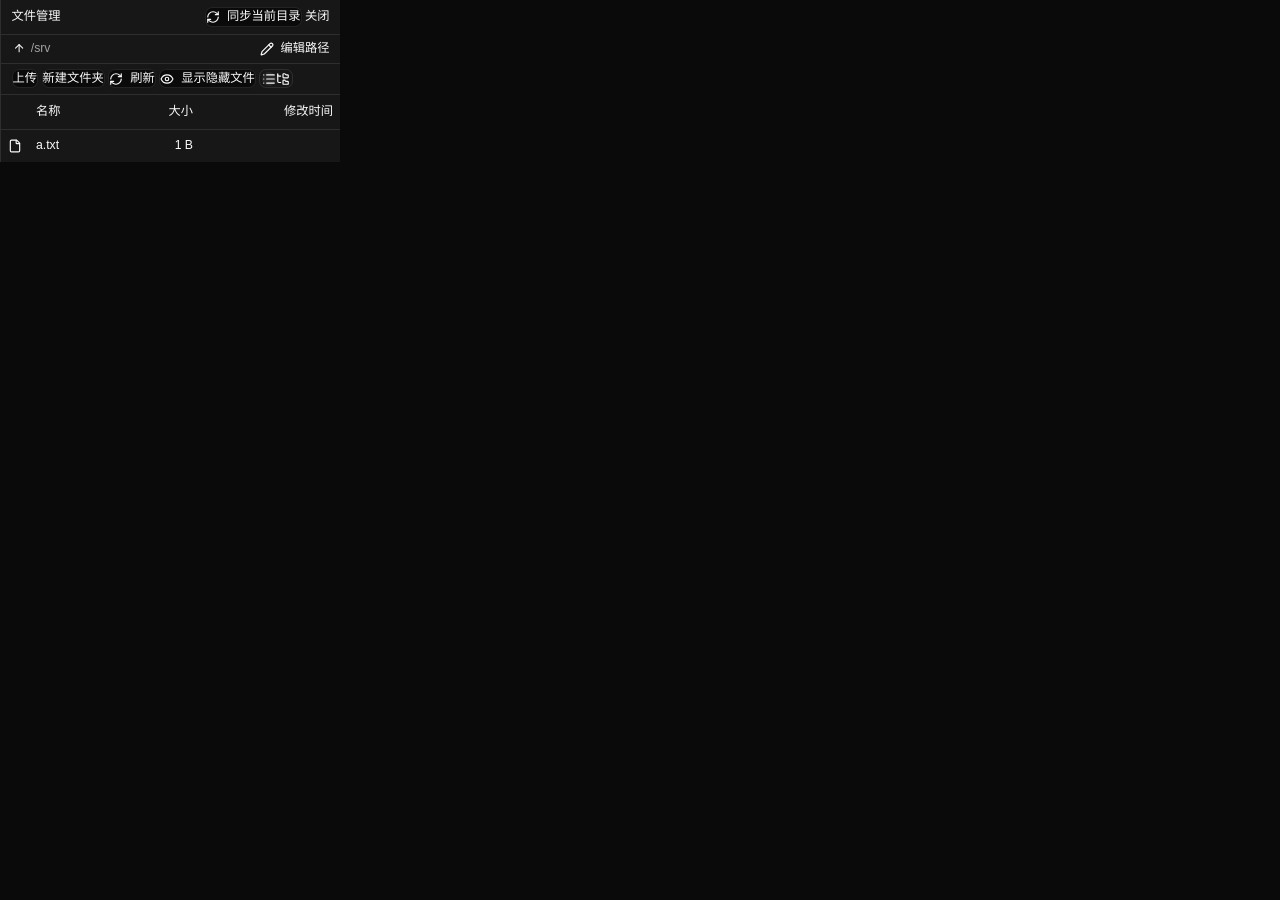
Test case: FilePanel SFTP views › surfaces create-file failures inline without toast
The image size is (1280, 900).
Right-click the button "a.txt": (48, 146) [36, 137, 59, 154]
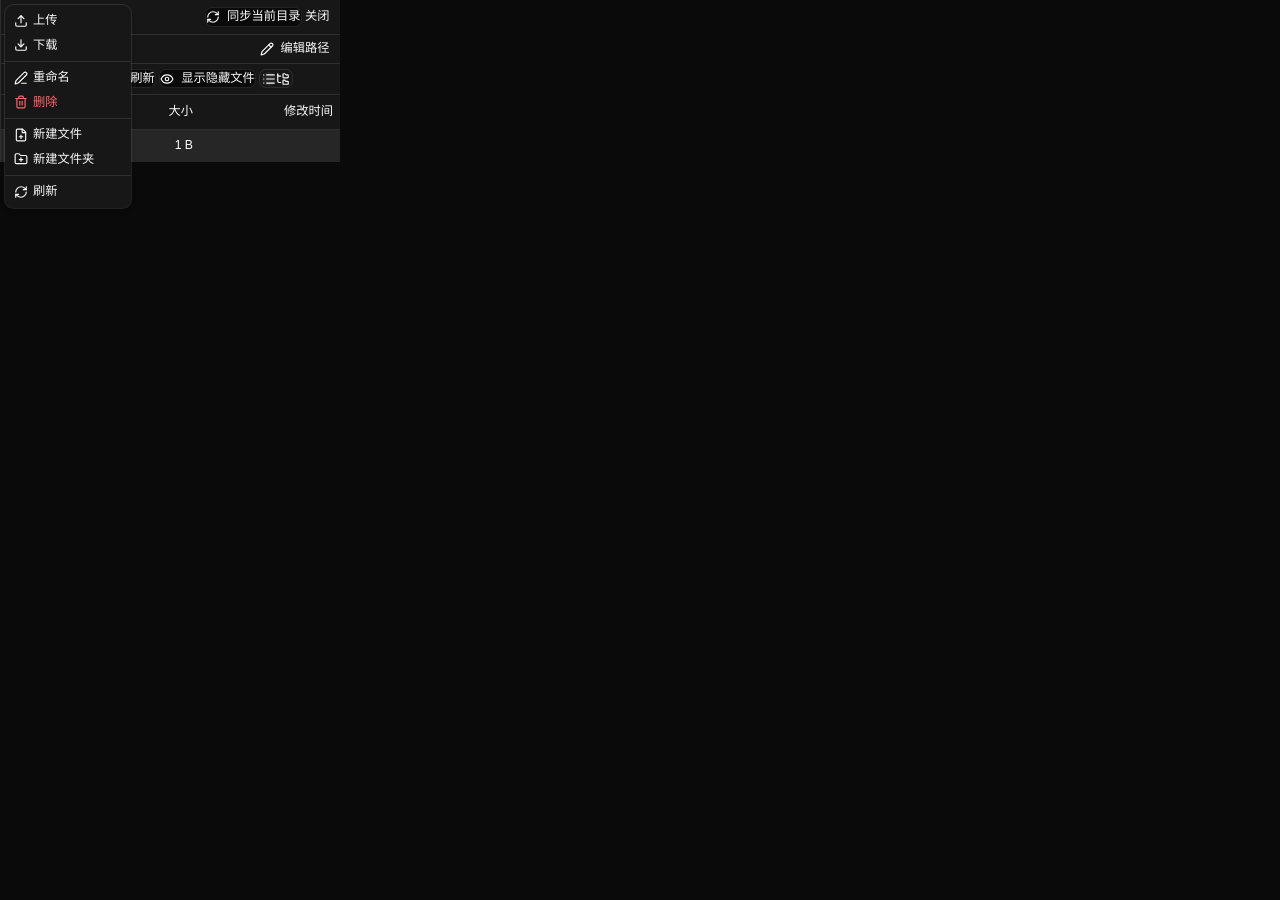
Click the menu item "新建文件": (48, 134) [14, 127, 82, 142]
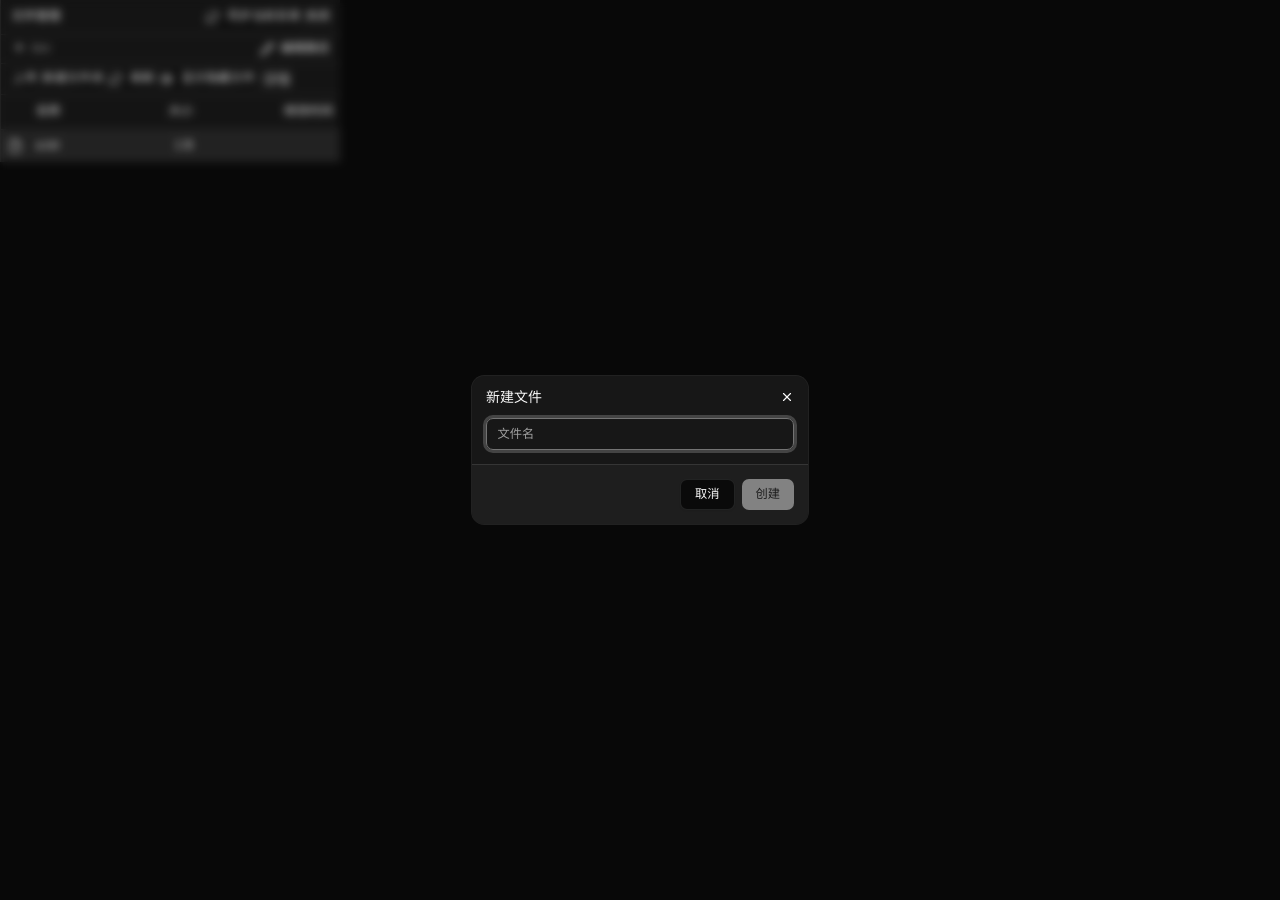
In the field labelled "文件名": (640, 434) [486, 418, 794, 450], type "notes.md"
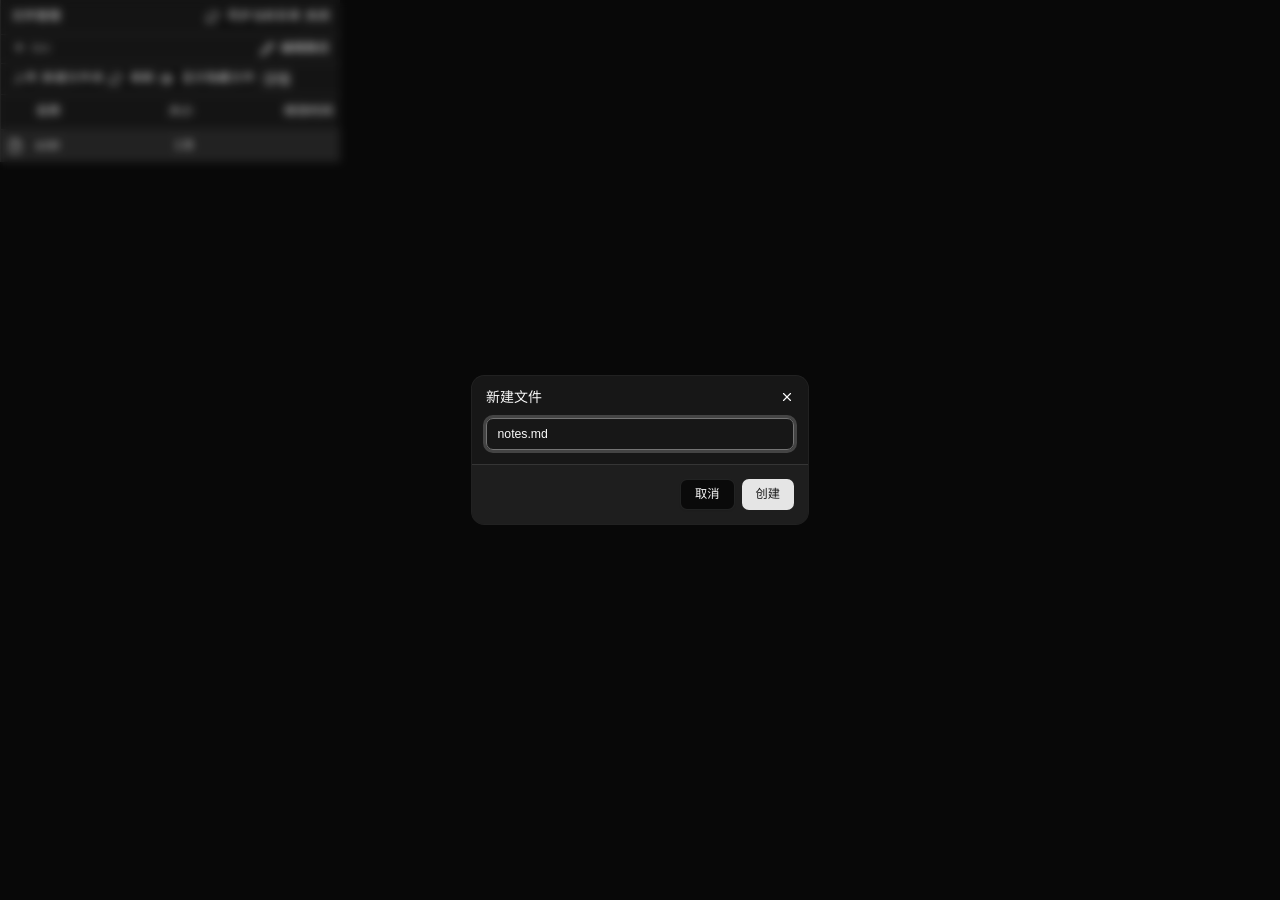
Click the button "创建": (768, 494) [742, 478, 794, 510]
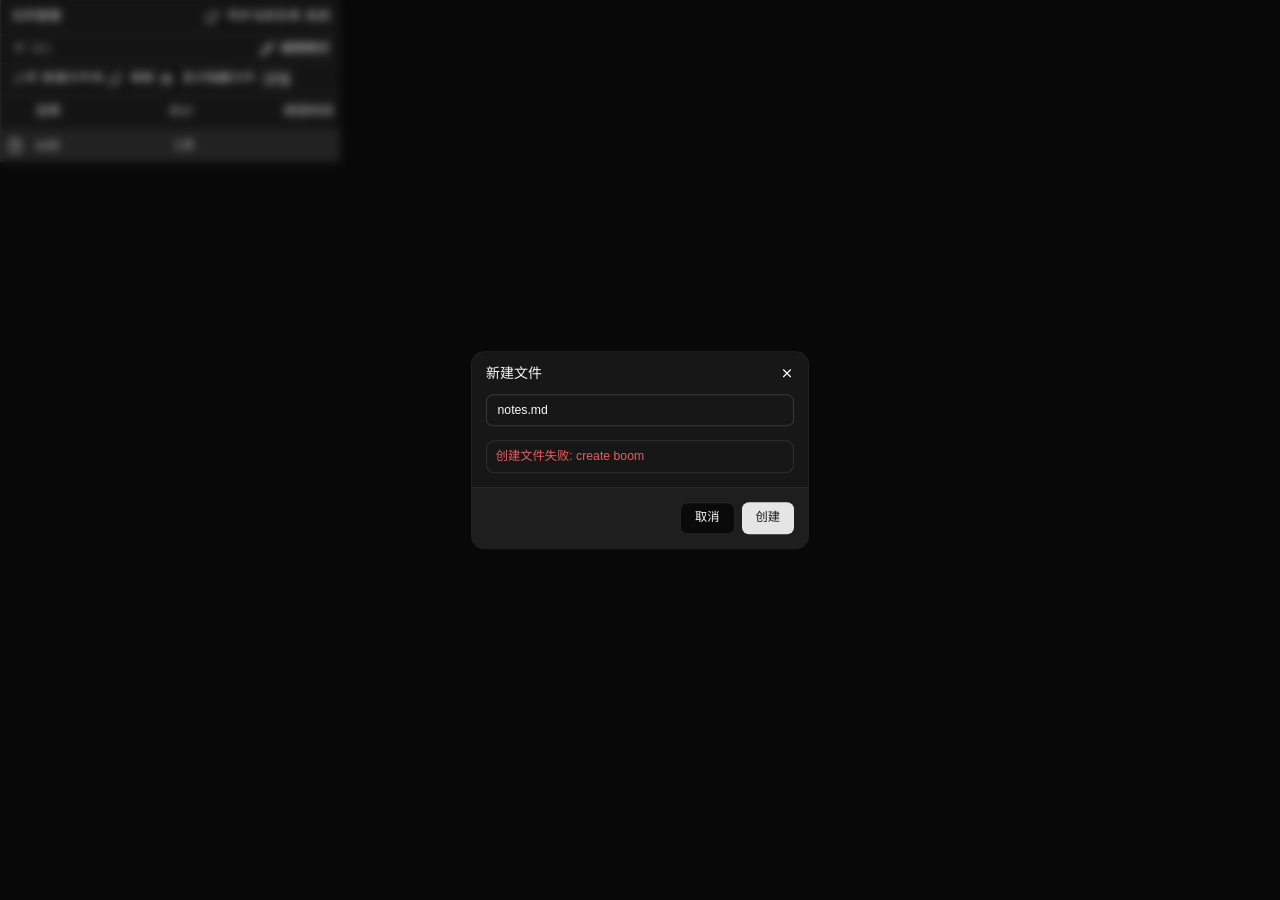
Now the dialog is shown, box [472, 352, 808, 548]
Now the text "创建文件失败: create boom" is shown, box [496, 449, 644, 463]
